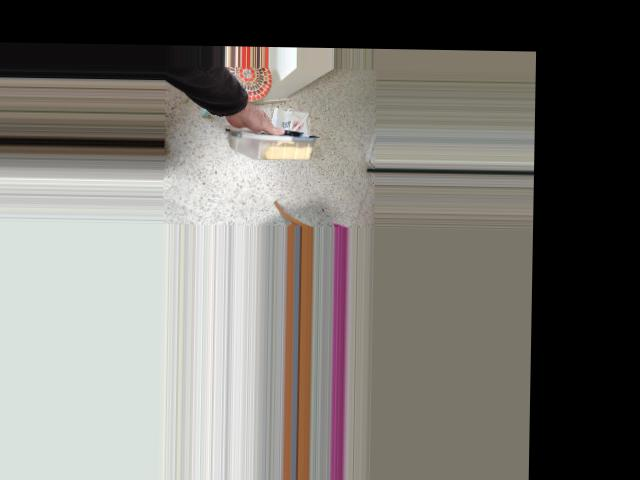cheese: (209, 86, 310, 184)
